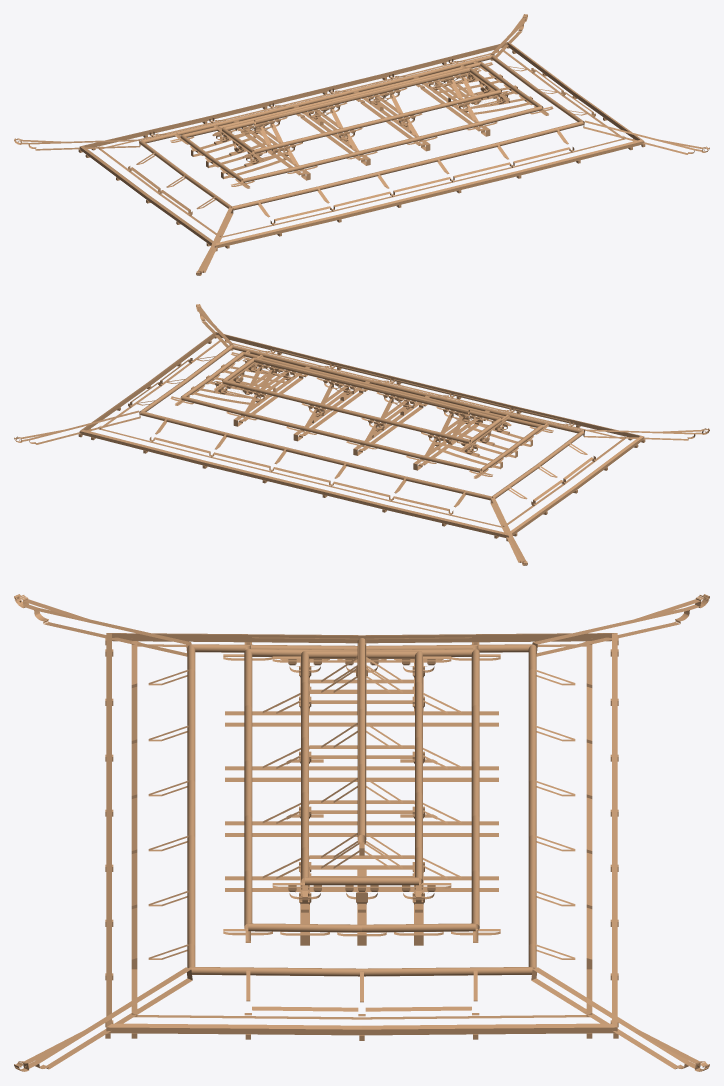
3 views of the same model, one above another, from view 1: azimuth 30°, elevation 25°; view 2: azimuth 150°, elevation 25°; view 3: azimuth 270°, elevation 25° (orthographic). The views are drawn at different scales.
Visible parts, largest first — view 1: Layer_4; view 2: Layer_4; view 3: Layer_4.
Boxes of the visible parts, box(x1,y1,x2,y2) form: Layer_4: box(14, 14, 709, 275); Layer_4: box(14, 304, 709, 565); Layer_4: box(14, 594, 709, 1071).
Bounding box in the file's own units: 10 × 1.08 × 6.22.
